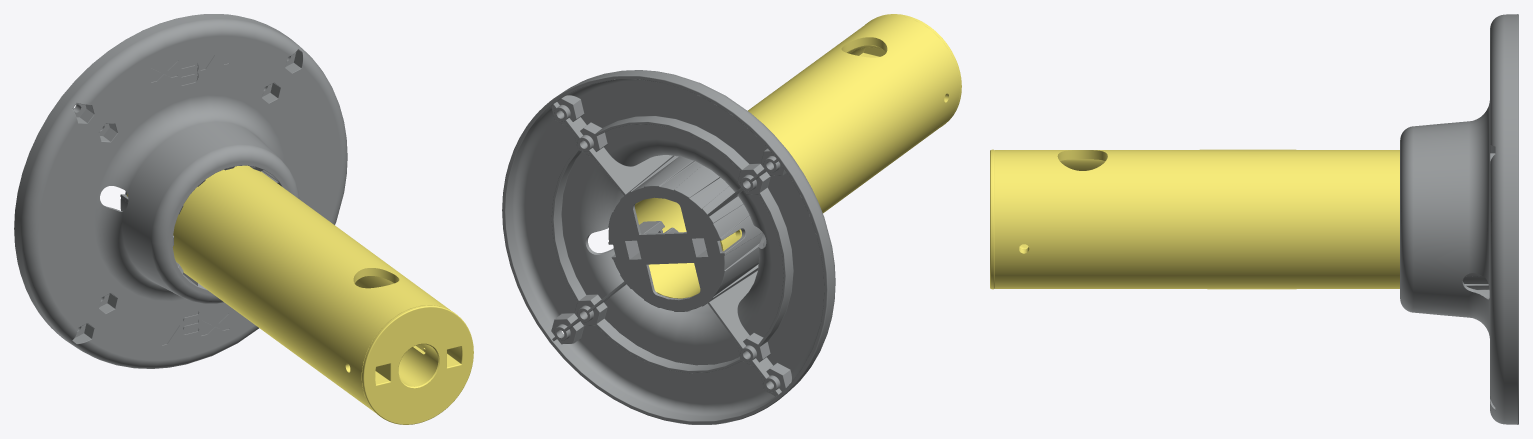
File: VIQRC-LevelUp-H2H-_-GameObjects_L4Base.glb
The picture shows the model from 3 angles, left to right: view 1: azimuth 30°, elevation 25°; view 2: azimuth 150°, elevation 25°; view 3: azimuth 270°, elevation 25°; orthographic projection. The views are drawn at different scales.
Visible parts, largest first — view 1: Body1.002, Body1, Body1.001; view 2: Body1.002, Body1, Body1.001; view 3: Body1, Body1.002, Body1.001.
Boxes of the visible parts, x1=… form: Body1.002: x1=14, y1=14, x2=347, y2=368; Body1: x1=126, y1=165, x2=449, y2=412; Body1.001: x1=362, y1=305, x2=473, y2=424; Body1.002: x1=502, y1=70, x2=835, y2=424; Body1: x1=635, y1=15, x2=959, y2=298; Body1.001: x1=847, y1=14, x2=961, y2=126; Body1: x1=994, y1=149, x2=1399, y2=289; Body1.002: x1=1400, y1=14, x2=1518, y2=424; Body1.001: x1=990, y1=149, x2=1028, y2=289.
Size of the model in its own units: 0.1778 by 0.1778 by 0.2287.
